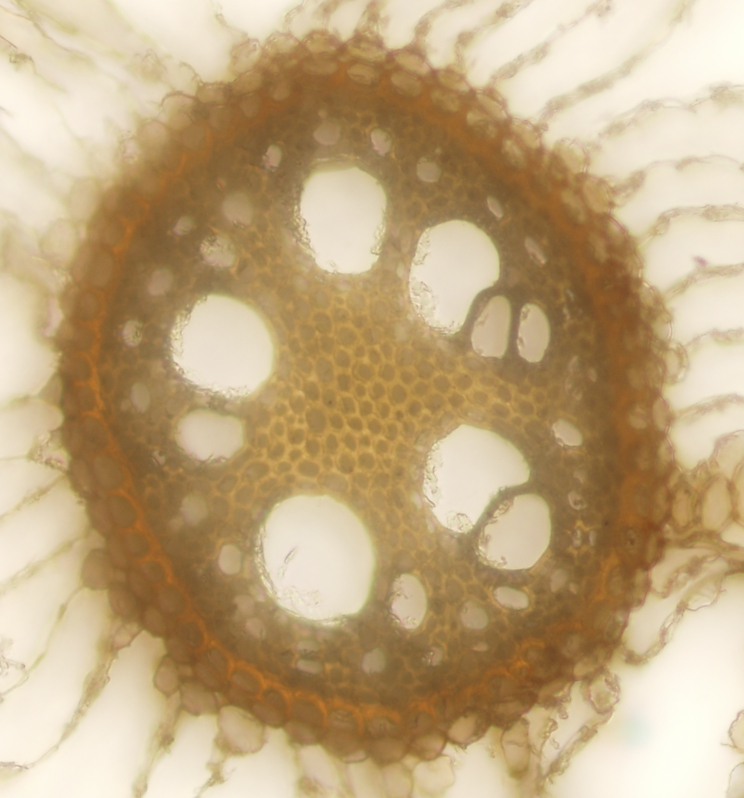lm: (257, 493, 427, 634), (407, 219, 551, 362), (424, 421, 552, 572), (167, 293, 277, 462), (298, 159, 387, 274)
